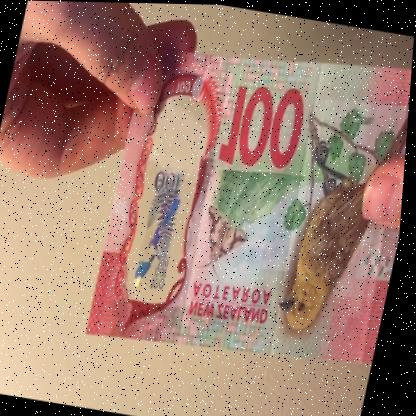100B: (128, 109, 209, 299)
